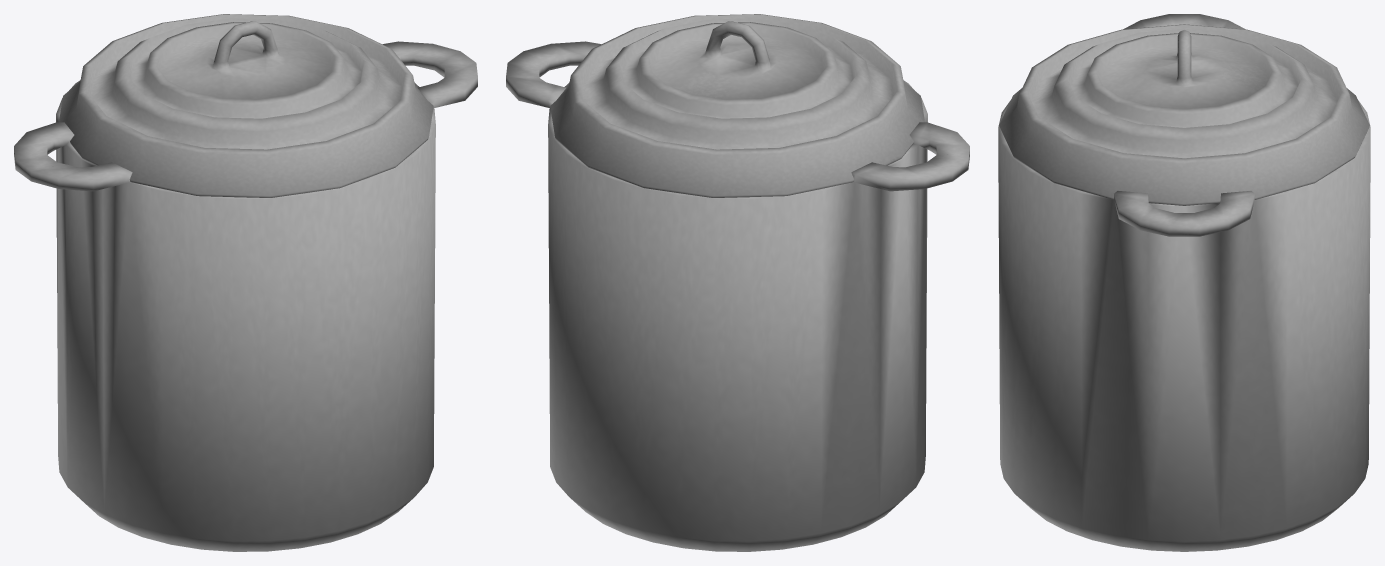
The model's file is cookingpot_002.glb.
The picture shows the model from 3 angles, left to right: view 1: azimuth 30°, elevation 25°; view 2: azimuth 150°, elevation 25°; view 3: azimuth 270°, elevation 25°; orthographic projection. The views are drawn at different scales.
Visible parts, largest first — view 1: cookingpot.002, cookingpot.005; view 2: cookingpot.002, cookingpot.005; view 3: cookingpot.002, cookingpot.005.
Boxes of the visible parts, <box> form: cookingpot.002: <box>14,41,477,551</box>; cookingpot.005: <box>59,14,433,197</box>; cookingpot.002: <box>506,41,969,551</box>; cookingpot.005: <box>550,14,924,197</box>; cookingpot.002: <box>998,14,1370,551</box>; cookingpot.005: <box>999,24,1369,205</box>.
Size of the model in its own units: 1.16 by 1.14 by 0.8571.
Materials: 1 (1 with a texture image).
